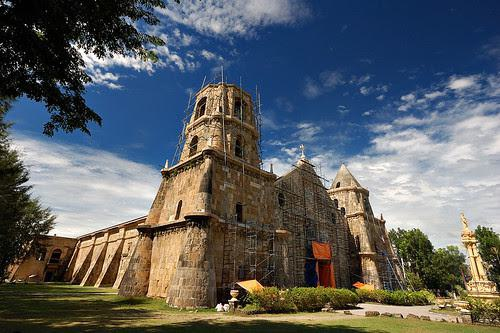miagao_church_miagao_iloilo: (132, 64, 408, 298)
